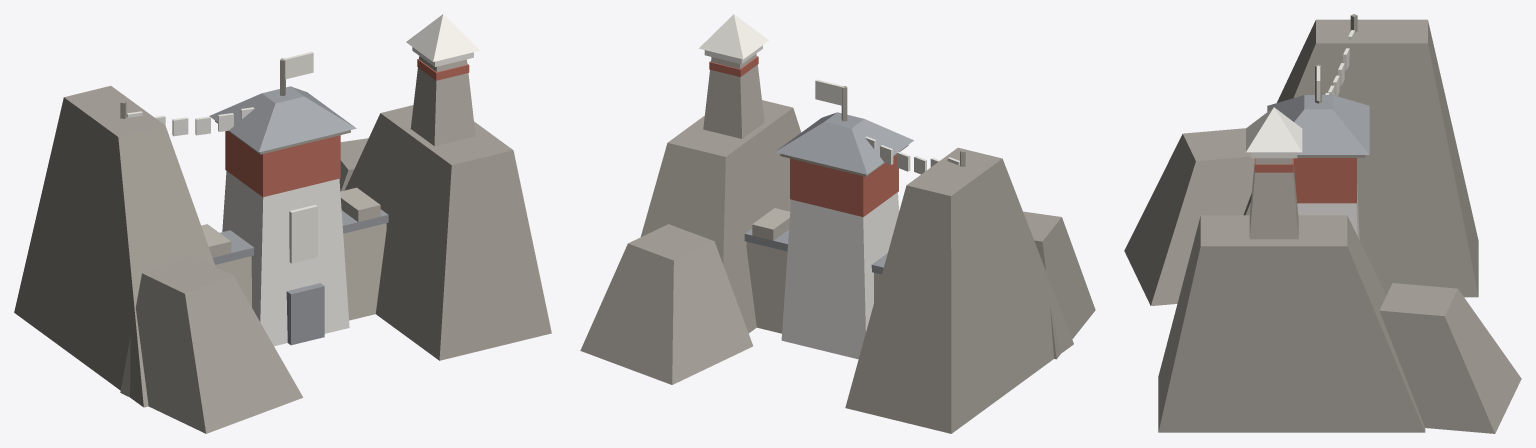
File: fort.glb
The picture shows the model from 3 angles, left to right: view 1: azimuth 30°, elevation 25°; view 2: azimuth 150°, elevation 25°; view 3: azimuth 270°, elevation 25°; orthographic projection. The views are drawn at different scales.
Parts seen in each view (by area): view 1: highland_fort; view 2: highland_fort; view 3: highland_fort.
Boxes of the visible parts, x1,y1,x2,y2 form: highland_fort: (14,14,551,433); highland_fort: (580,14,1095,433); highland_fort: (1124,14,1521,433).
Bounding box in the file's own units: 1 × 0.7183 × 0.8646.
